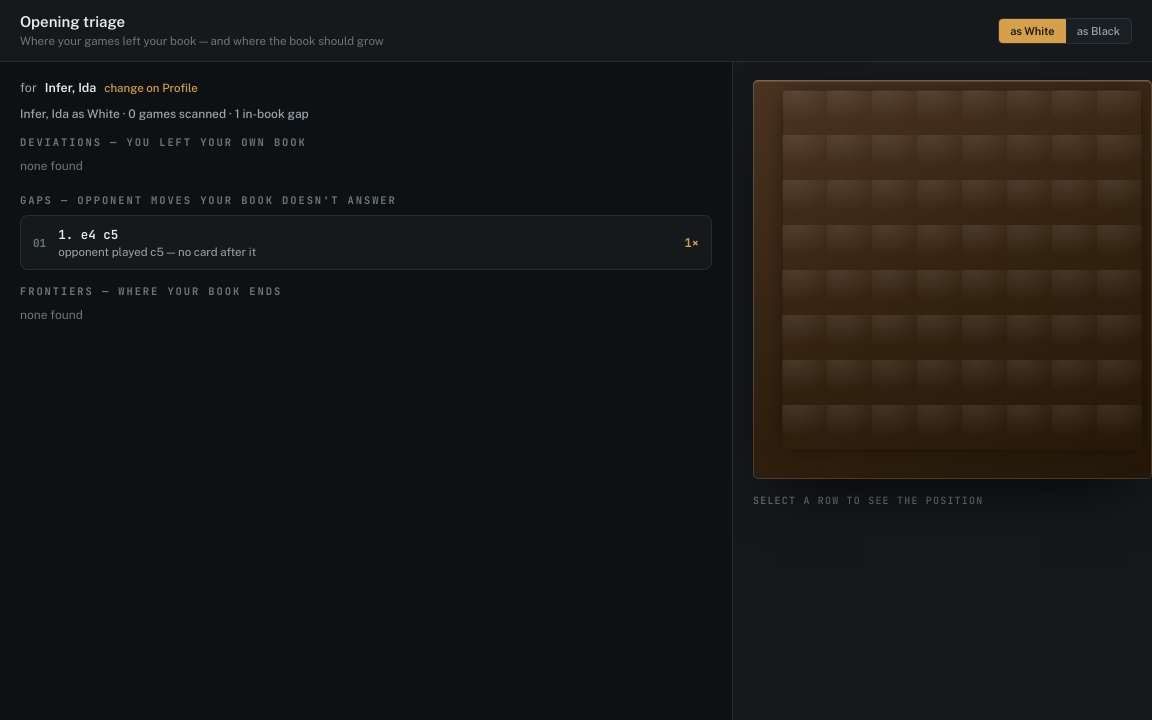
Test: TriageView — a running extension shows its work › reports depth and the engine's current picks instead of a bare wait
Click the text "opponent played c5 — no card after it" at [157, 252], box [58,245,256,259]
(page scrolled)
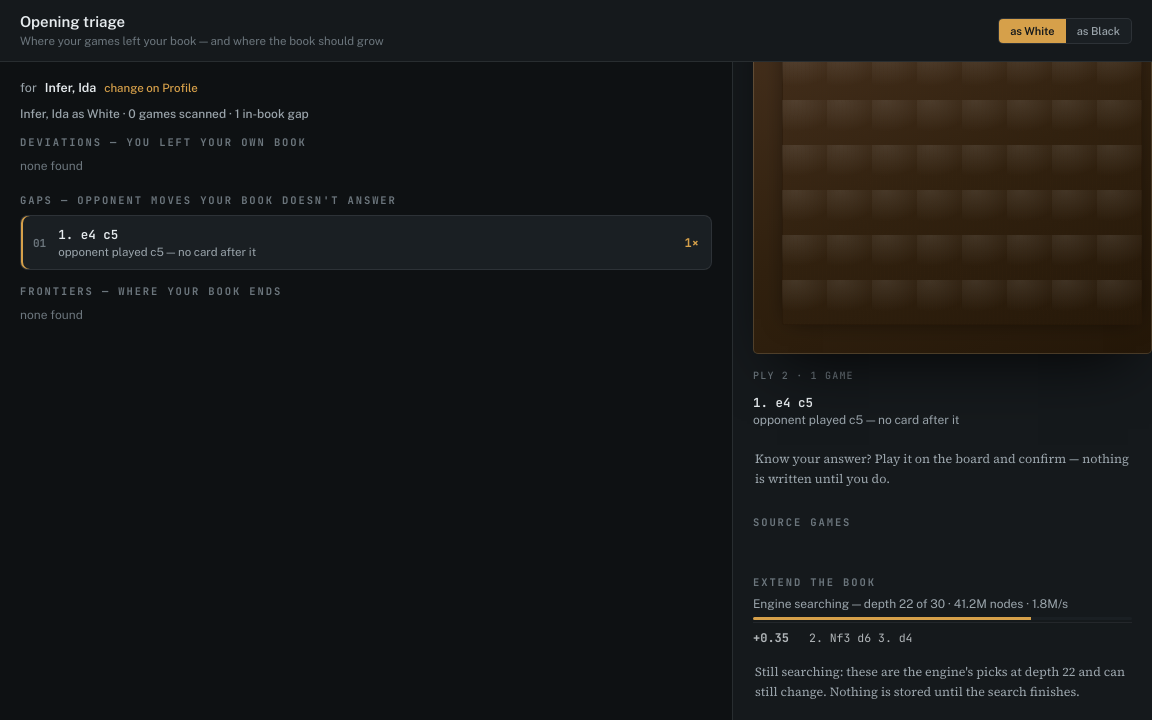
Now the text "EXTEND THE BOOK" is shown, box [753,575,876,589]
Now the text "depth 22 of 30 · 41.2M nodes · 1.8M/s" is shown, box [753,597,1068,611]
Now the element with class "triage-ext-live" shows "2. Nf3 d6 3. d4", box [809,630,912,645]
